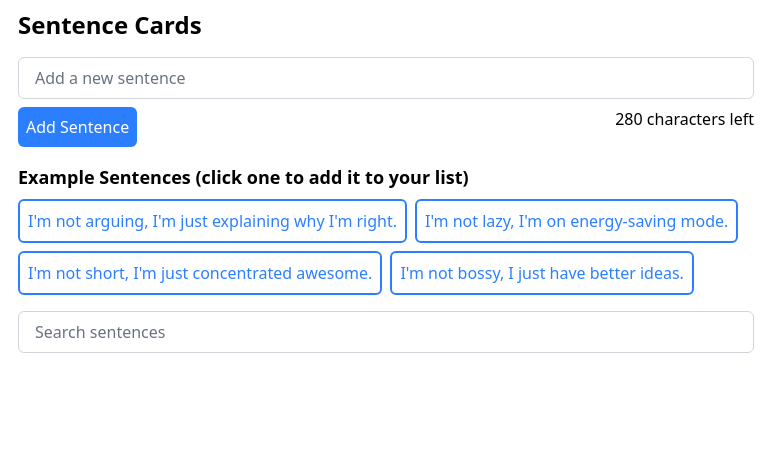
Test: SentenceCards › adds a new sentence
Step 1. Type "Test sentence" into the field labelled "Add a new sentence" → (386, 78), box [18,57,754,99]
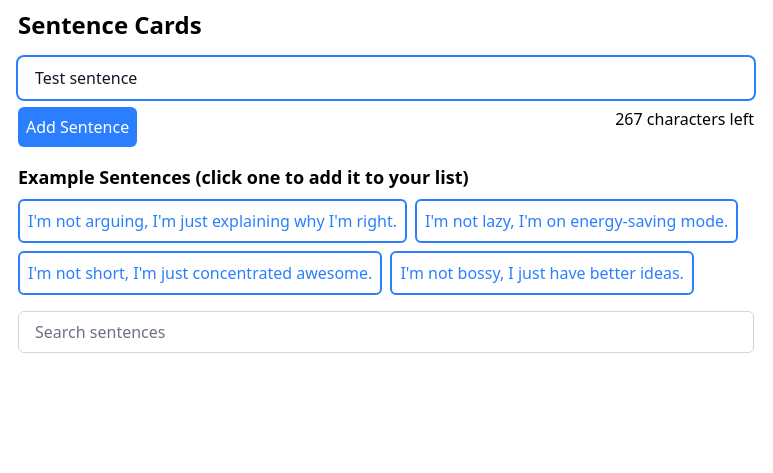
Step 2. Click the button "Add Sentence" → (78, 127), box [18,107,137,147]
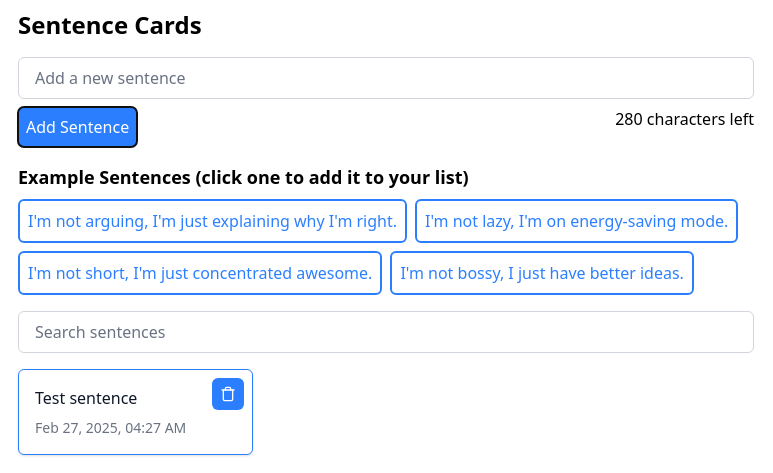
Now the text "Test sentence" is shown, box [35,387,137,409]
